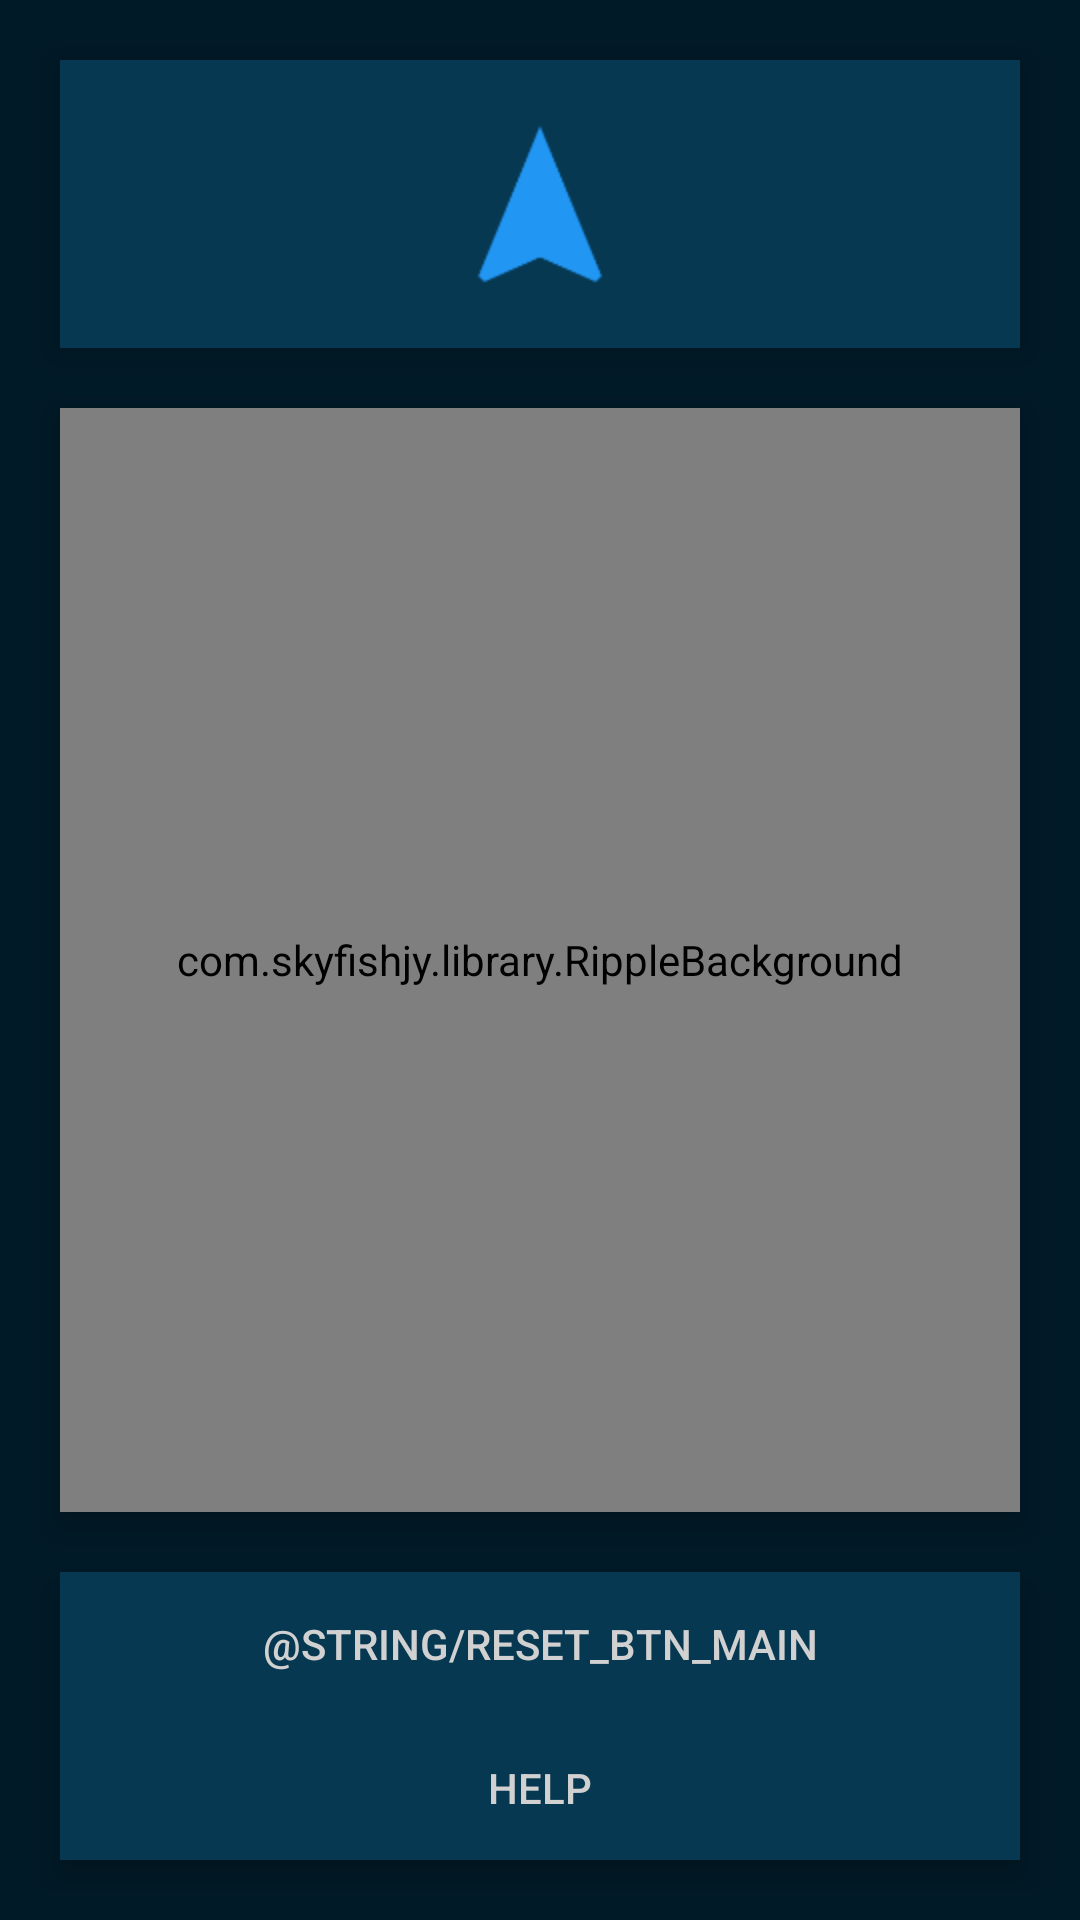

Locate icon controls on the screen. Image size 1080px x 1920px, boxes as bbox=(x1, y1, x2, y2).
navigation: bbox=(478, 127, 602, 283)
